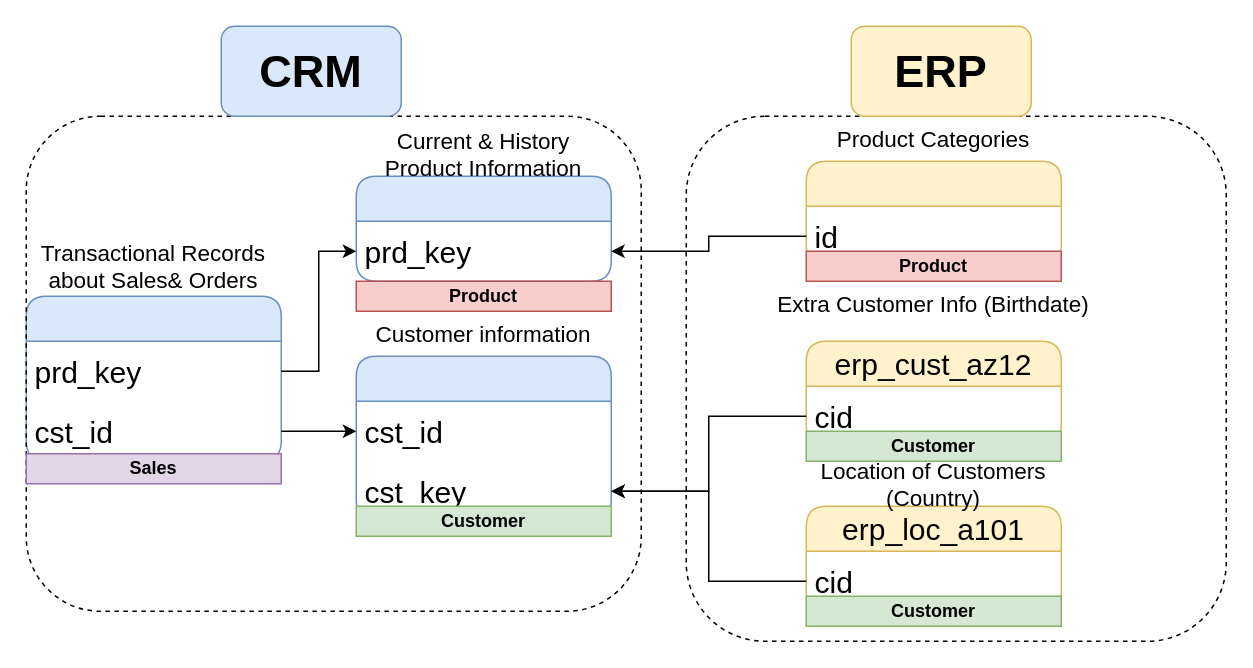
This 1253x668 diagram has some shape labels left out. Each missing label, with the box of its shape:
crm_cust_info: (355, 355, 611, 521)
crm_prd_info: (355, 175, 611, 281)
crm_sales_info: (25, 295, 281, 461)
erp_px_cat_g1v2: (805, 160, 1061, 266)
